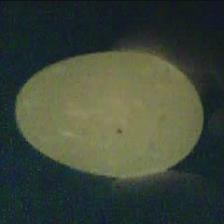infertile: (10, 47, 206, 180)
